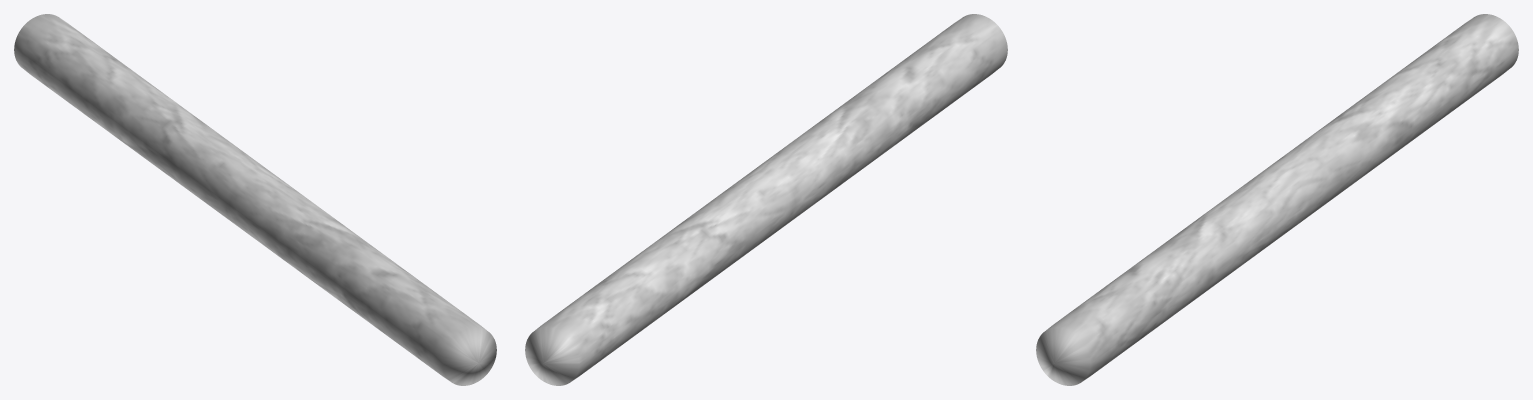
The model's file is retainer_rods_epoxy.obj.
3 renders of one model, left to right at view 1: azimuth 30°, elevation 25°; view 2: azimuth 150°, elevation 25°; view 3: azimuth 330°, elevation 25°, orthographic.
Parts seen in each view (by area): view 1: 4_Bolt Retainer + rods + epoxy (MUTD); view 2: 4_Bolt Retainer + rods + epoxy (MUTD); view 3: 4_Bolt Retainer + rods + epoxy (MUTD).
Part boxes in pixels (x1=…): 4_Bolt Retainer + rods + epoxy (MUTD): x1=14, y1=14, x2=496, y2=385; 4_Bolt Retainer + rods + epoxy (MUTD): x1=525, y1=14, x2=1007, y2=385; 4_Bolt Retainer + rods + epoxy (MUTD): x1=1036, y1=14, x2=1518, y2=385.
Bounding box in the file's own units: 0.127 × 0.1267 × 1.78.
1 material, 1 textured.
